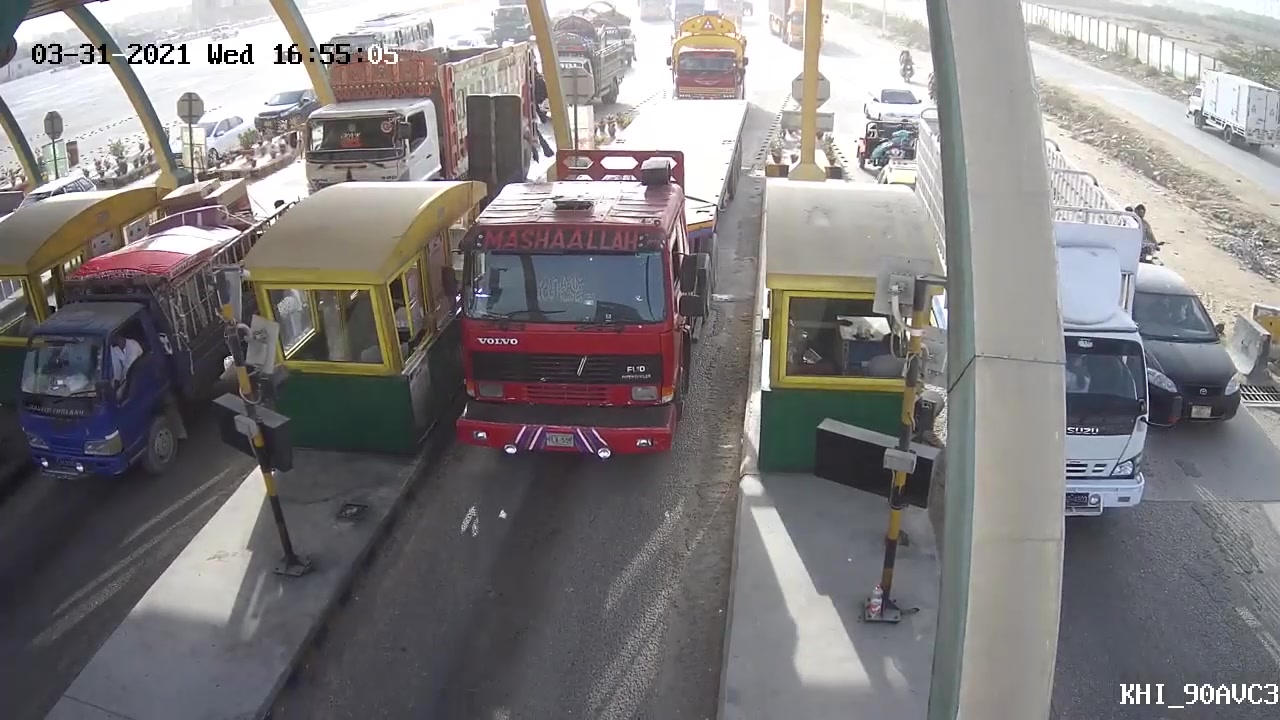F6: (454, 81, 748, 485)
